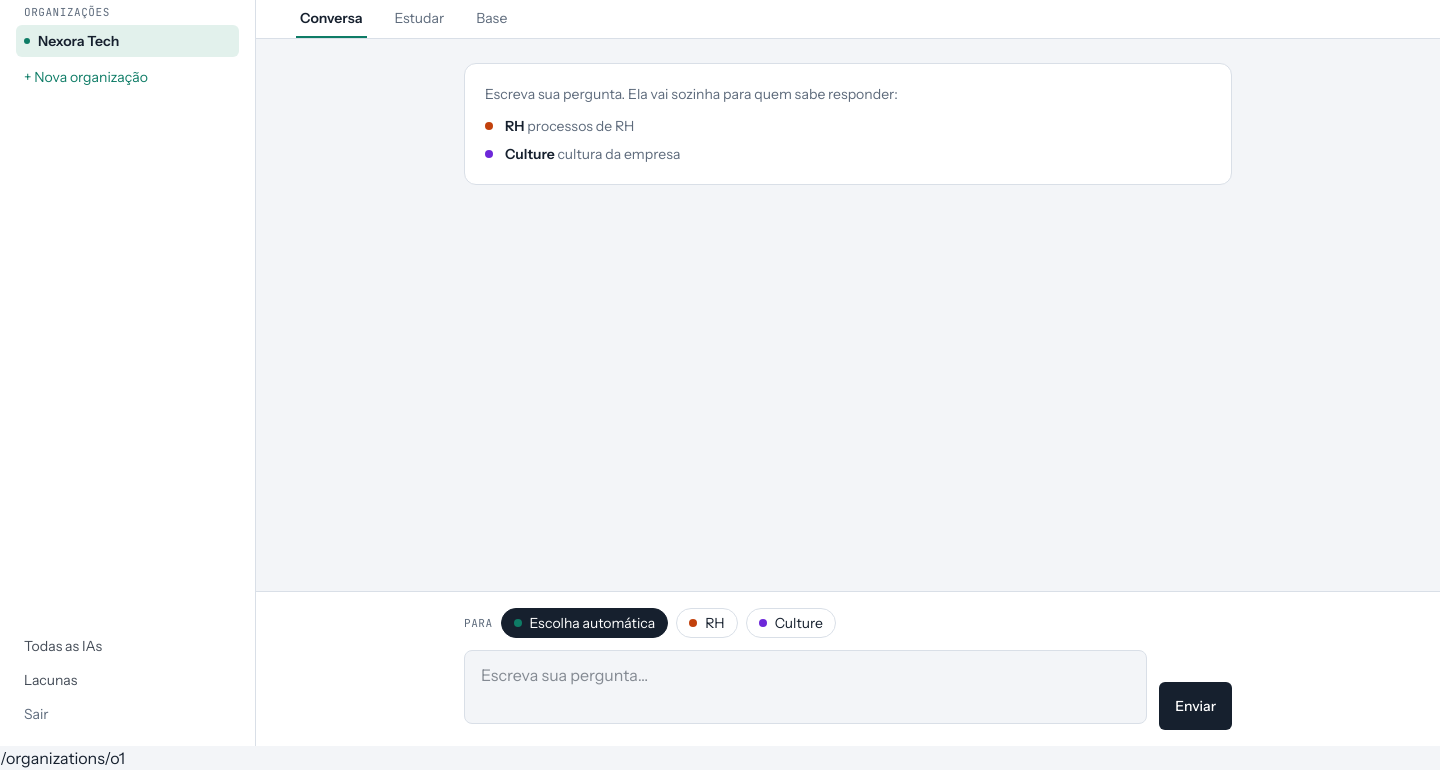
Scenario: source preview › preview overlays on narrow screens
The width and height of the screenshot is (1440, 770).
(page scrolled)
Step 1. Type "Como peço férias?" into the text box named "Mensagem" → x=806, y=687, box [464, 650, 1147, 724]
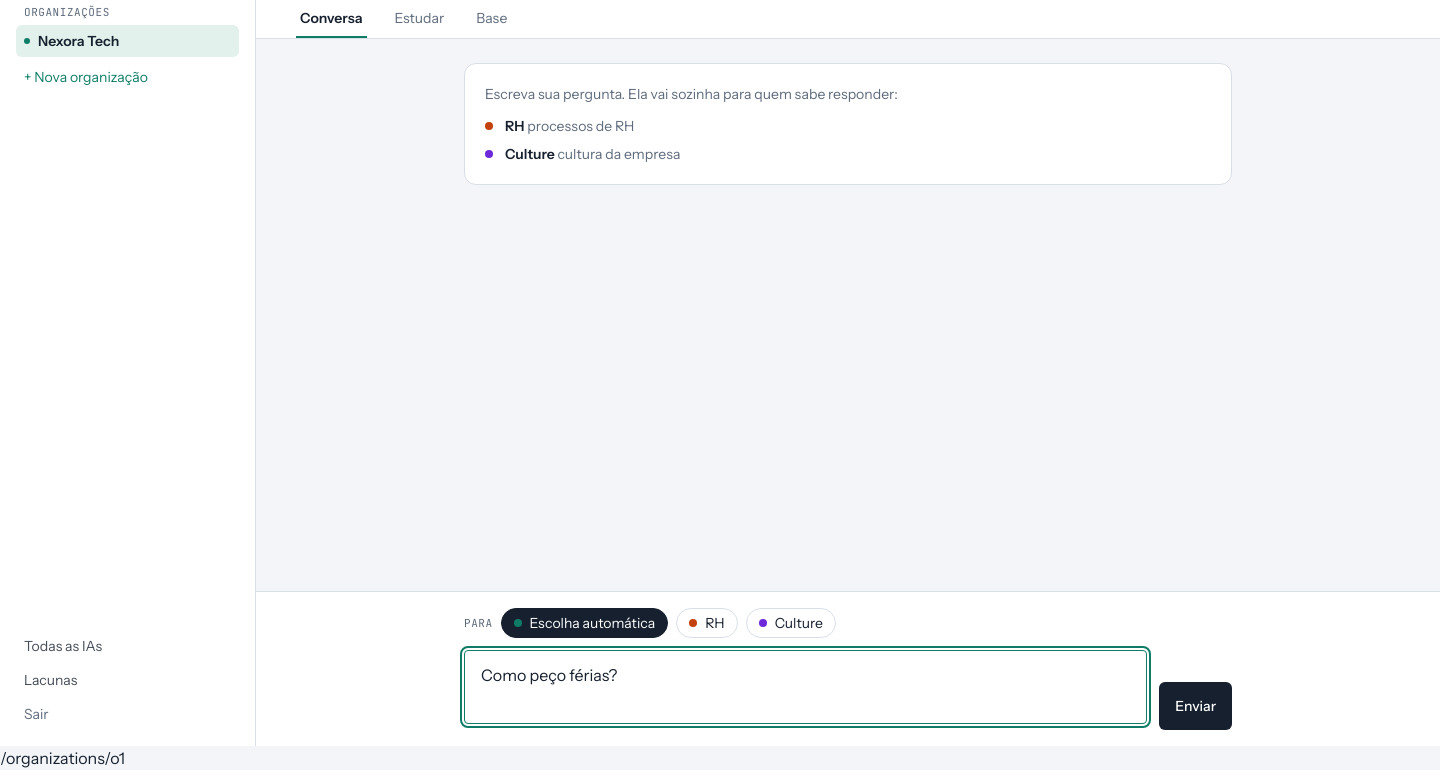
Step 2. Click the button "Enviar" → x=1196, y=706, box [1159, 682, 1232, 730]
(page scrolled)
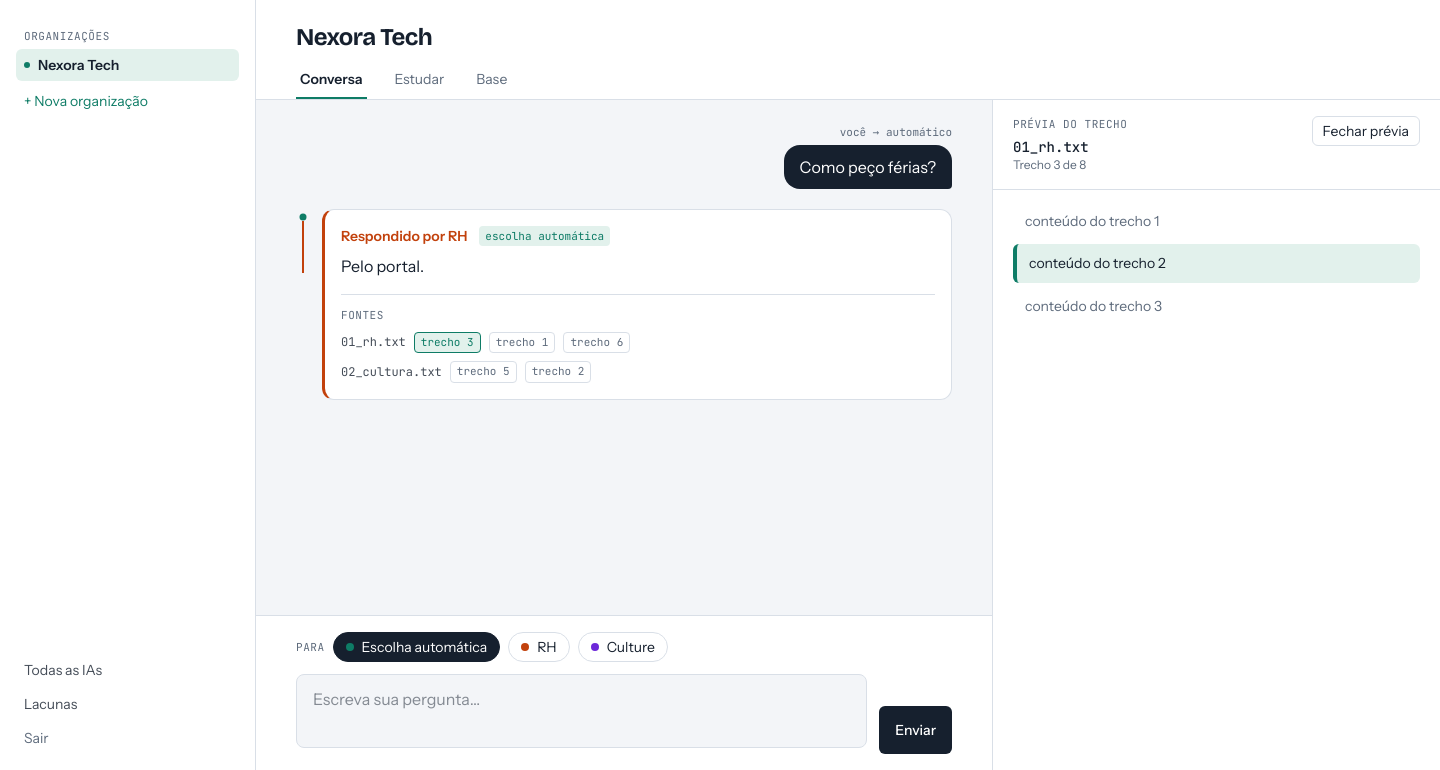
Result: the button "Fechar prévia" is shown at [1312, 116, 1420, 146]
